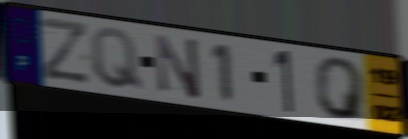1: (209, 43, 237, 105), (272, 48, 295, 115)
N: (153, 32, 203, 103)
Q: (88, 25, 145, 93), (312, 56, 368, 124)
Z: (38, 14, 92, 86)
